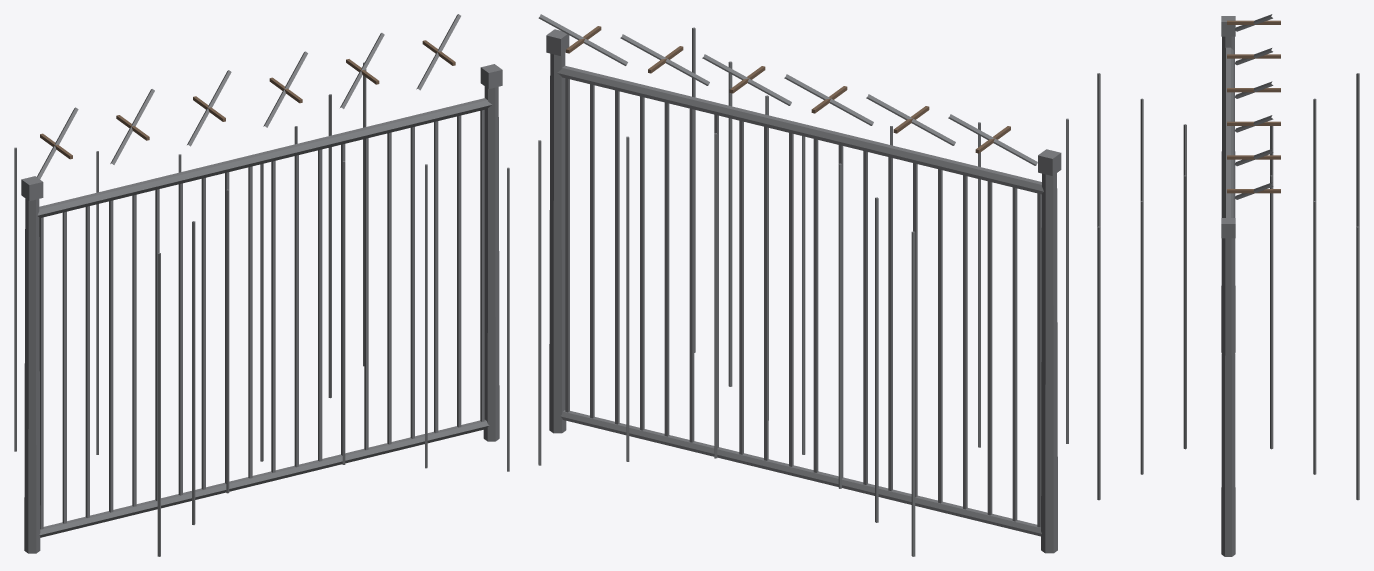
The model's file is fence_chainlink.glb.
3 renders of one model, left to right at view 1: azimuth 30°, elevation 25°; view 2: azimuth 150°, elevation 25°; view 3: azimuth 270°, elevation 25°, orthographic. The views are drawn at different scales.
Visible parts, largest first — view 1: fence_chainlink.001; view 2: fence_chainlink.001; view 3: fence_chainlink.001.
Part boxes in pixels (x1,y1,x2,y2): fence_chainlink.001: (14,14,509,556); fence_chainlink.001: (538,14,1068,556); fence_chainlink.001: (1097,14,1359,556).
Bounding box in the file's own units: 3.09 × 2.55 × 1.65.
